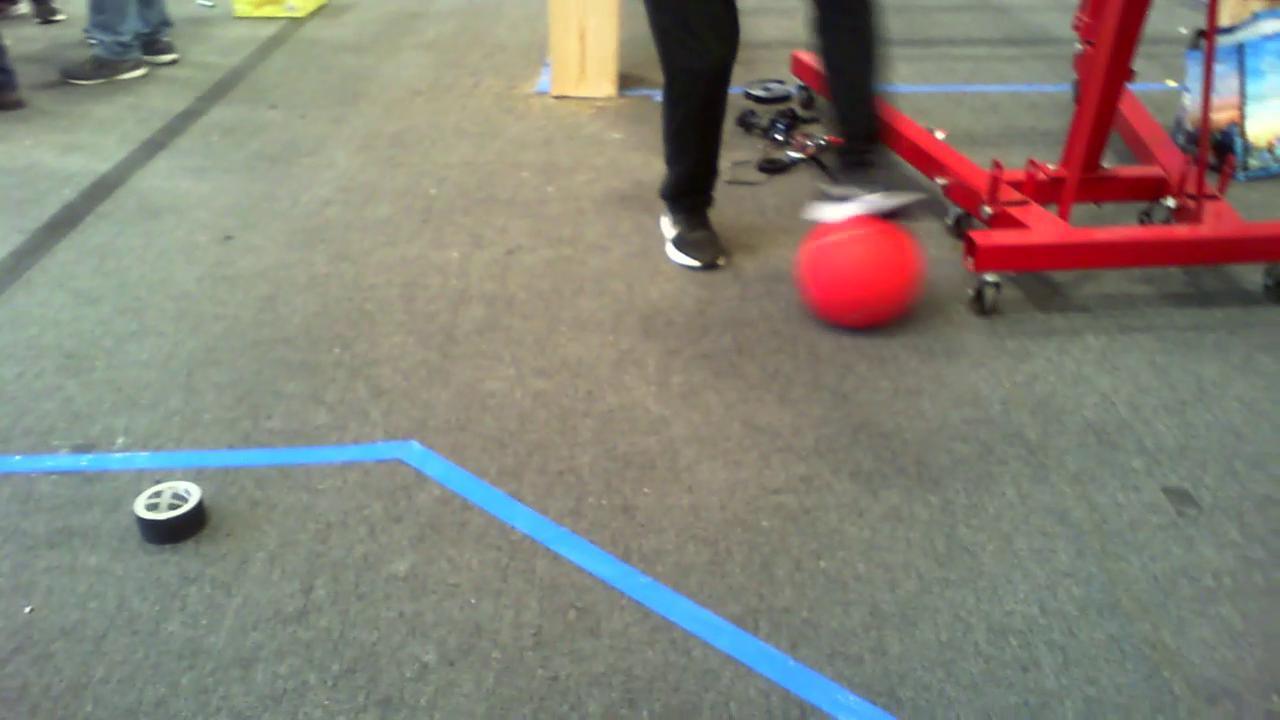Red_Ball: (779, 201, 930, 336)
